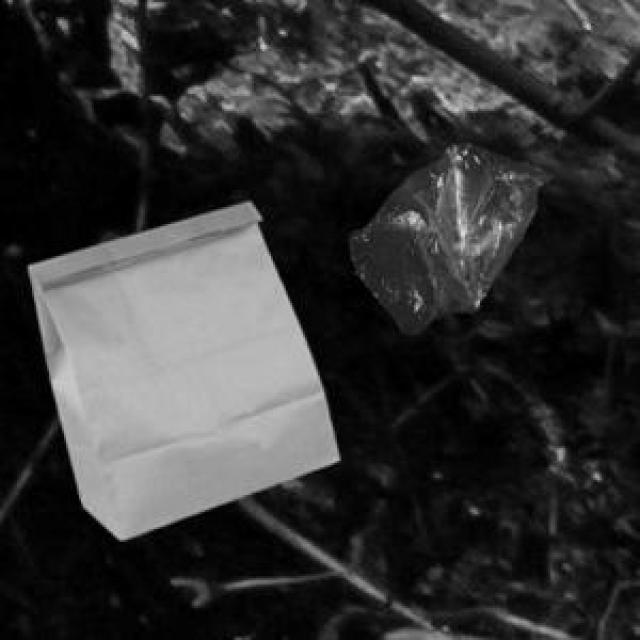paper: (26, 198, 335, 536)
